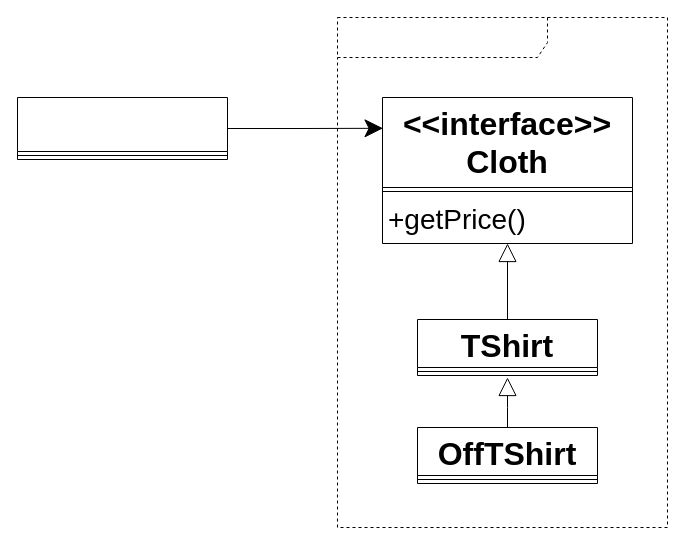
The diagram is 685 pixels wide and 545 high, and some of its shapes have lost their labels. The box of each missing label's shape, as (x1, y1, x2, y2) in pixels:
ClothStore: (16, 96, 228, 160)
系统: (336, 16, 668, 528)
